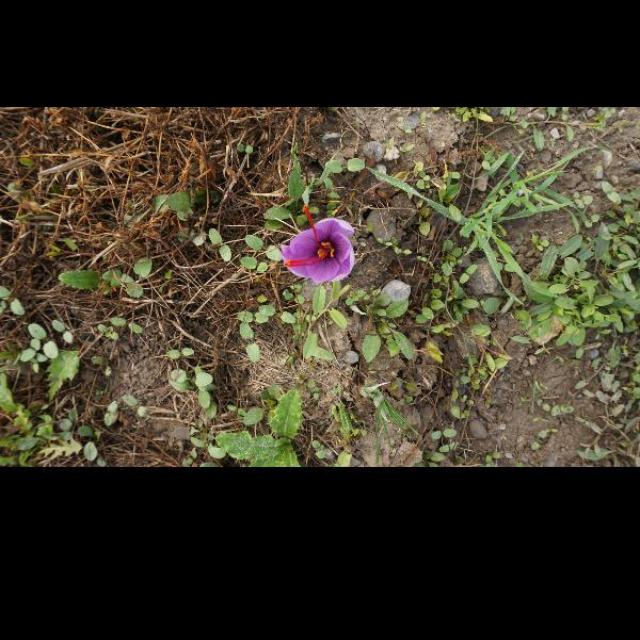flower: (280, 207, 356, 286)
